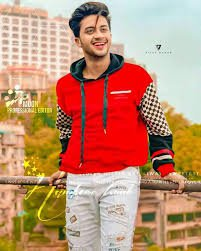noMask: (62, 1, 120, 61)
